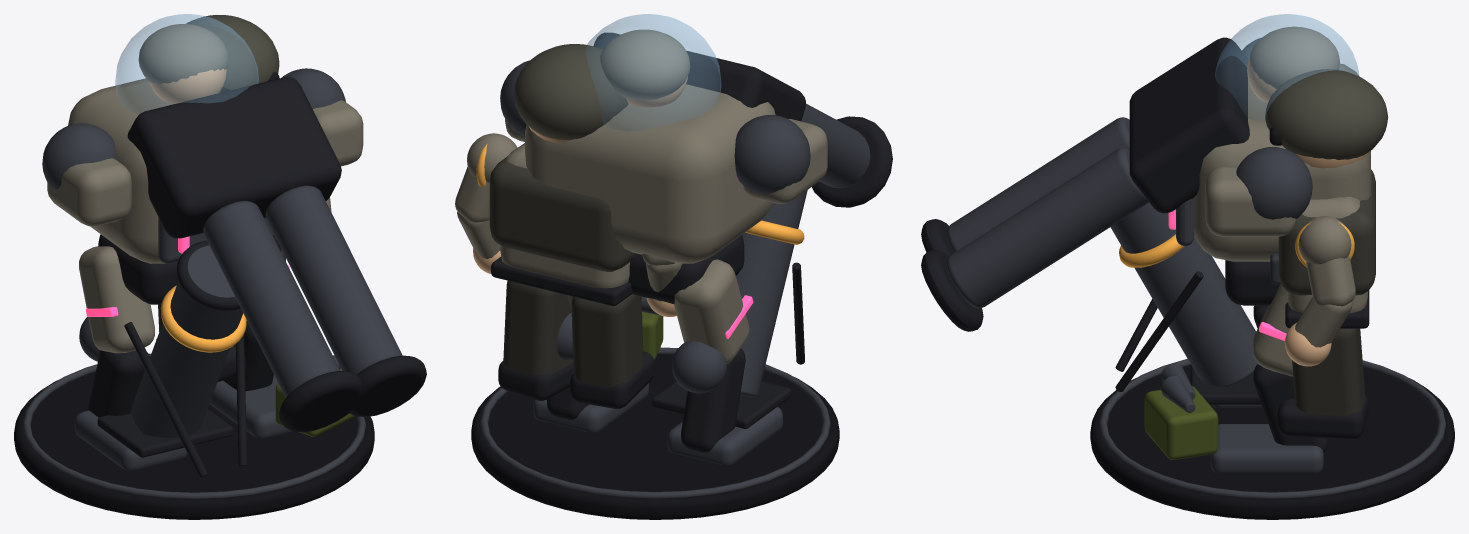
Rendered from morter.glb.
3 renders of one model, left to right at view 1: azimuth 30°, elevation 25°; view 2: azimuth 150°, elevation 25°; view 3: azimuth 270°, elevation 25°, orthographic. The views are drawn at different scales.
Parts seen in each view (by area): view 1: vaaben5_net, fod_net, benV5_net, hoved5_net, skuldre5_net, op4.003_net, op2.001_net, ned4_net, benH5_net, hoved_net, op4.002_net, op2.002_net (+2 smaller); view 2: fod_net, op4.003_net, benV5_net, hoved5_net, vaaben5_net, op3_net, hoved_net, skuldre5_net, benV_net, benH_net, op2.001_net, skuldre_net (+5 smaller); view 3: vaaben5_net, fod_net, op2.001_net, op4.003_net, hoved_net, hoved5_net, benH5_net, skuldre5_net, benH_net, skuldre_net, op1_net, op3_net (+3 smaller).
Boxes of the visible parts, box(x1,y1,x2,y2) form: vaaben5_net: box(127, 77, 426, 432); fod_net: box(14, 353, 374, 519); benV5_net: box(74, 246, 187, 470); hoved5_net: box(115, 14, 258, 113); skuldre5_net: box(42, 68, 363, 226); op4.003_net: box(68, 78, 281, 304); op2.001_net: box(131, 245, 243, 437); ned4_net: box(97, 322, 247, 477); benH5_net: box(209, 265, 292, 438); hoved_net: box(186, 15, 279, 90); op4.002_net: box(160, 285, 246, 352); op2.002_net: box(177, 240, 240, 310); fod_net: box(471, 347, 839, 519); op4.003_net: box(525, 84, 775, 304); benV5_net: box(667, 259, 782, 465); hoved5_net: box(585, 14, 721, 130); vaaben5_net: box(593, 32, 892, 207); op3_net: box(489, 156, 636, 271); hoved_net: box(514, 44, 628, 142); skuldre5_net: box(500, 60, 827, 203); benV_net: box(570, 294, 654, 408); benH_net: box(498, 280, 573, 400); op2.001_net: box(736, 190, 807, 396); skuldre_net: box(455, 133, 681, 316); vaaben5_net: box(921, 37, 1249, 331); fod_net: box(1090, 358, 1454, 519); op2.001_net: box(1110, 202, 1257, 386); op4.003_net: box(1168, 63, 1370, 305); hoved_net: box(1265, 69, 1388, 168); hoved5_net: box(1215, 14, 1359, 121); benH5_net: box(1210, 284, 1328, 473); skuldre5_net: box(1205, 38, 1312, 236); benH_net: box(1277, 328, 1368, 439); skuldre_net: box(1284, 216, 1355, 366); op1_net: box(1144, 363, 1218, 459); op3_net: box(1270, 169, 1375, 295).
Bounding box in the file's own units: 2.04 × 2.57 × 2.93.
